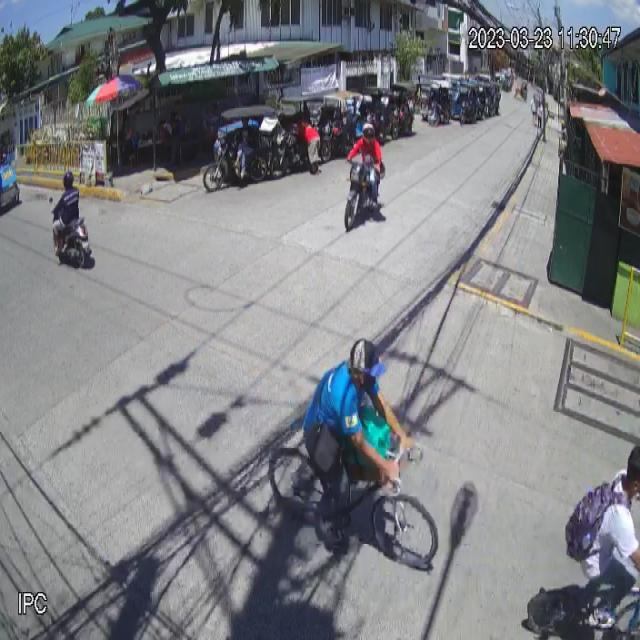Motorcycle: (343, 154, 388, 230), (48, 194, 93, 268)
